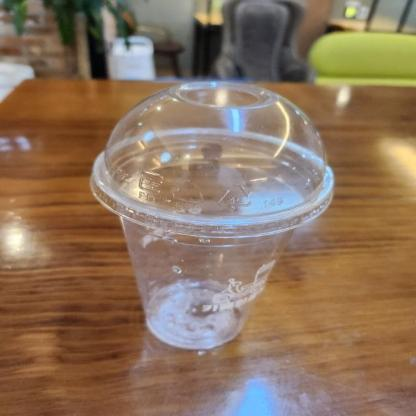Plastic Cup: (91, 81, 334, 354)
